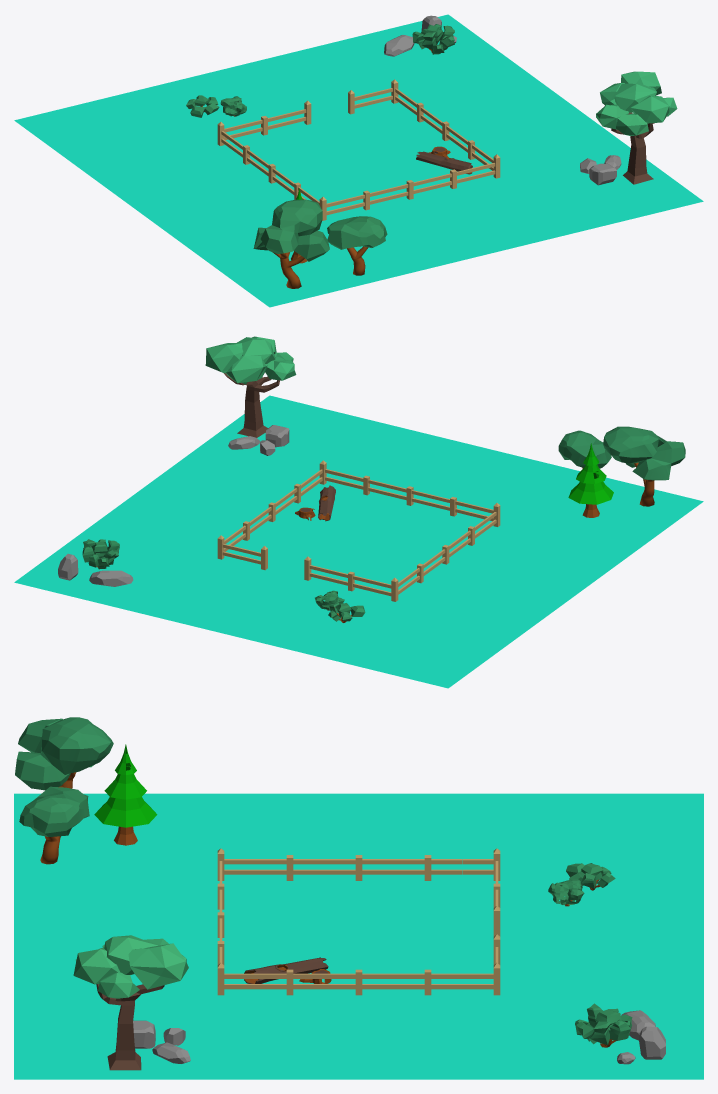
Rendered from region-2.glb.
3 renders of one model, top to bottom at view 1: azimuth 30°, elevation 25°; view 2: azimuth 150°, elevation 25°; view 3: azimuth 270°, elevation 25°, orthographic. The views are drawn at different scales.
Parts seen in each view (by area): view 1: rock-6.2237; view 2: rock-6.2237; view 3: rock-6.2237.
Part boxes in pixels (x1,y1,x2,y2): rock-6.2237: [14, 14, 703, 307]; rock-6.2237: [14, 336, 703, 688]; rock-6.2237: [14, 717, 703, 1079].
Bounding box in the file's own units: 30 × 6.13 × 30.
